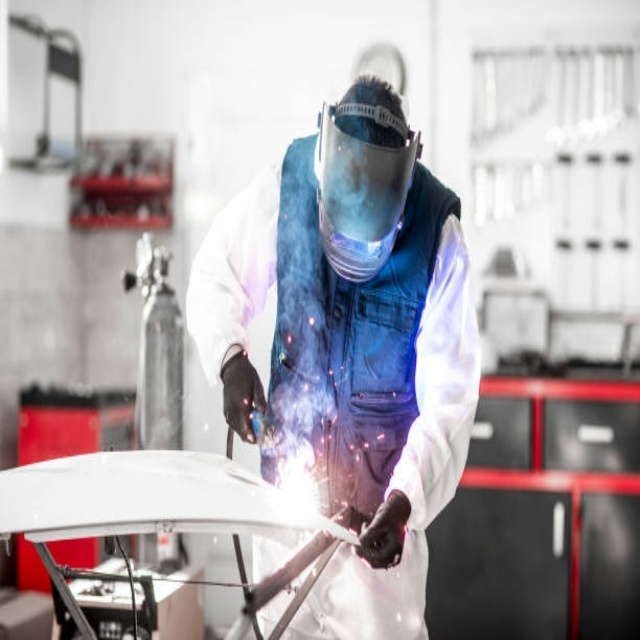Guantes: (220, 349, 267, 446), (357, 488, 412, 570)
